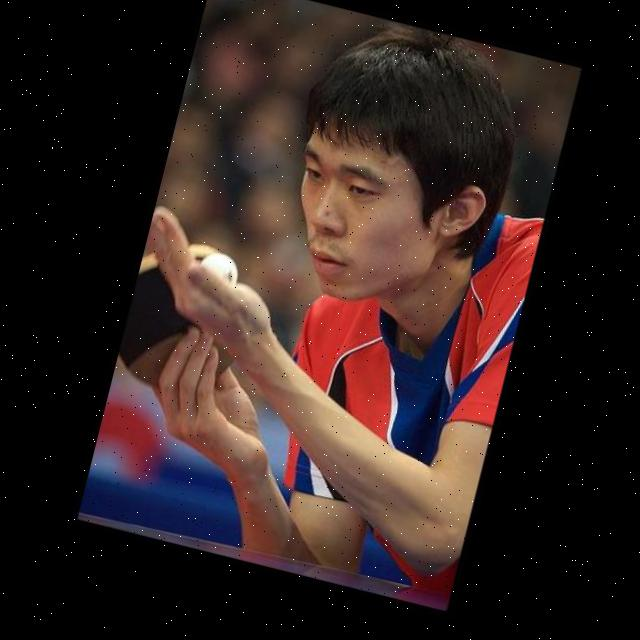ping-pong-ball: (194, 247, 242, 294)
